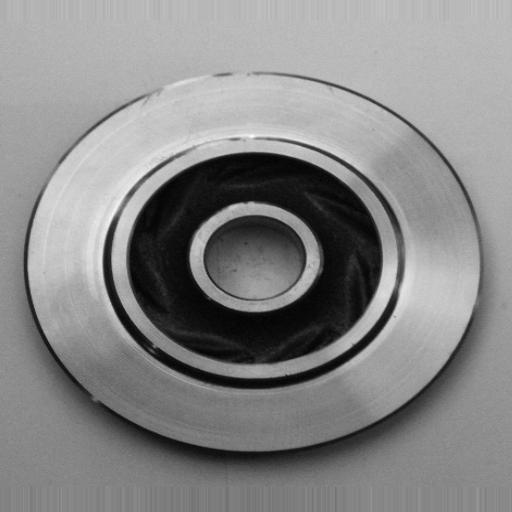scratch: (139, 61, 225, 110), (189, 120, 264, 161)
unpolished_casting: (24, 71, 487, 461)
